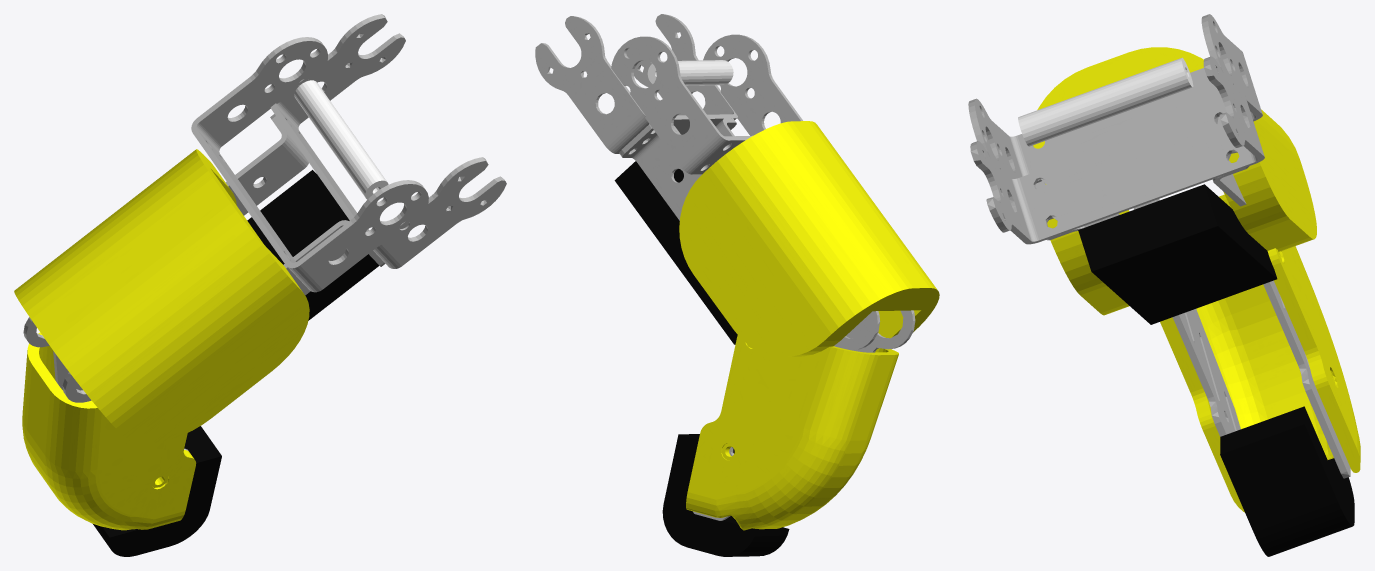
The model's file is mini2_finger_right_module.dae.
3 views of the same model, side by side, from view 1: azimuth 30°, elevation 25°; view 2: azimuth 150°, elevation 25°; view 3: azimuth 270°, elevation 25° (orthographic). The views are drawn at different scales.
Parts seen in each view (by area): view 1: node; view 2: node; view 3: node.
Part boxes in pixels (x1,y1,x2,y2): node: (14,14,506,556); node: (535,14,939,556); node: (968,14,1360,556).
Bounding box in the file's own units: 11.72 × 14.52 × 8.65.
1 material, 1 textured.
